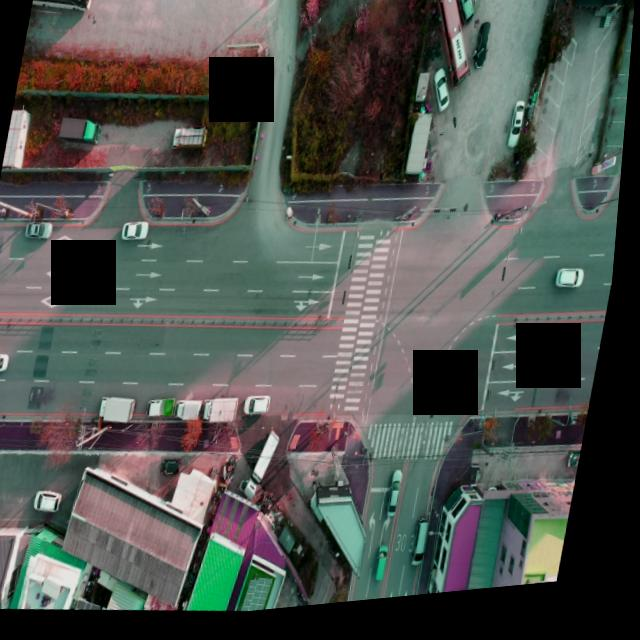car: (471, 23, 496, 82), (428, 74, 458, 121), (392, 471, 414, 527), (448, 0, 480, 37), (419, 523, 441, 576), (40, 489, 71, 516), (511, 108, 528, 155), (561, 275, 590, 302), (383, 549, 401, 591), (163, 456, 189, 483), (27, 218, 57, 241), (251, 396, 279, 420), (124, 222, 151, 244), (0, 349, 16, 373)
large_bus: (418, 0, 487, 101), (28, 0, 97, 22)
medium_truck: (250, 431, 288, 511), (56, 112, 105, 151), (103, 393, 145, 429), (206, 397, 247, 433)
small_truck: (171, 124, 211, 153), (177, 396, 212, 428), (151, 397, 183, 424)
